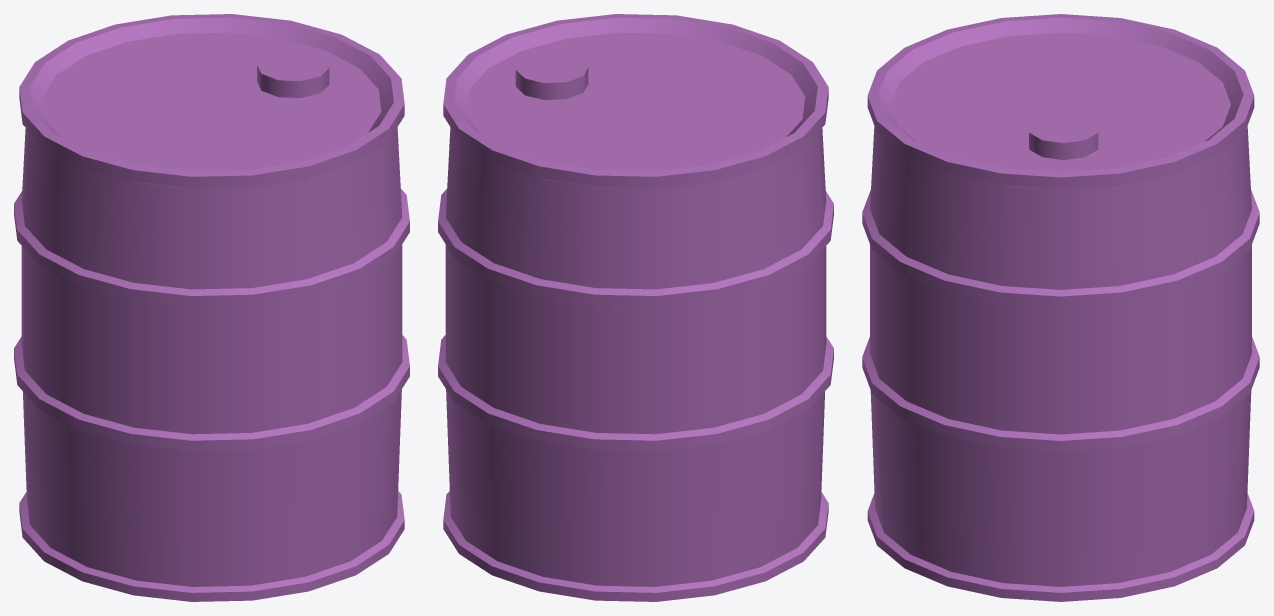
File: mesh_OilDrum_v2.fbx
3 views of the same model, side by side, from view 1: azimuth 30°, elevation 25°; view 2: azimuth 150°, elevation 25°; view 3: azimuth 270°, elevation 25° (orthographic).
Parts seen in each view (by area): view 1: mesh_OilDrum_v2_0; view 2: mesh_OilDrum_v2_0; view 3: mesh_OilDrum_v2_0.
Part boxes in pixels (x1,y1,x2,y2): mesh_OilDrum_v2_0: [14, 14, 409, 601]; mesh_OilDrum_v2_0: [438, 14, 833, 601]; mesh_OilDrum_v2_0: [862, 14, 1259, 601].
Size of the model in its own units: 64.47 by 77.92 by 64.47.
